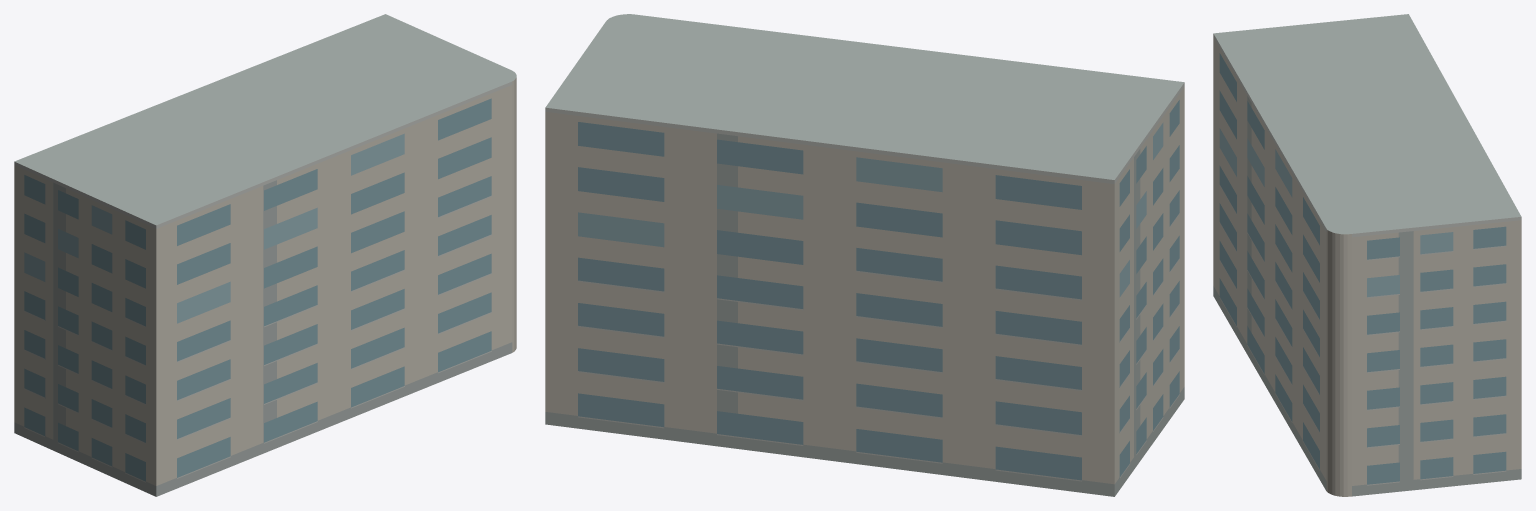
Rendered from survey-upis-32834660.glb.
3 renders of one model, left to right at view 1: azimuth 30°, elevation 25°; view 2: azimuth 150°, elevation 25°; view 3: azimuth 270°, elevation 25°, orthographic. The views are drawn at different scales.
Visible parts, largest first — view 1: survey-upis-32834660.tmp; view 2: survey-upis-32834660.tmp; view 3: survey-upis-32834660.tmp.
Part boxes in pixels (<box>): survey-upis-32834660.tmp: <box>14,14,516,496</box>; survey-upis-32834660.tmp: <box>545,14,1184,496</box>; survey-upis-32834660.tmp: <box>1213,14,1521,496</box>.
Size of the model in its own units: 34.29 by 19.05 by 20.27.
